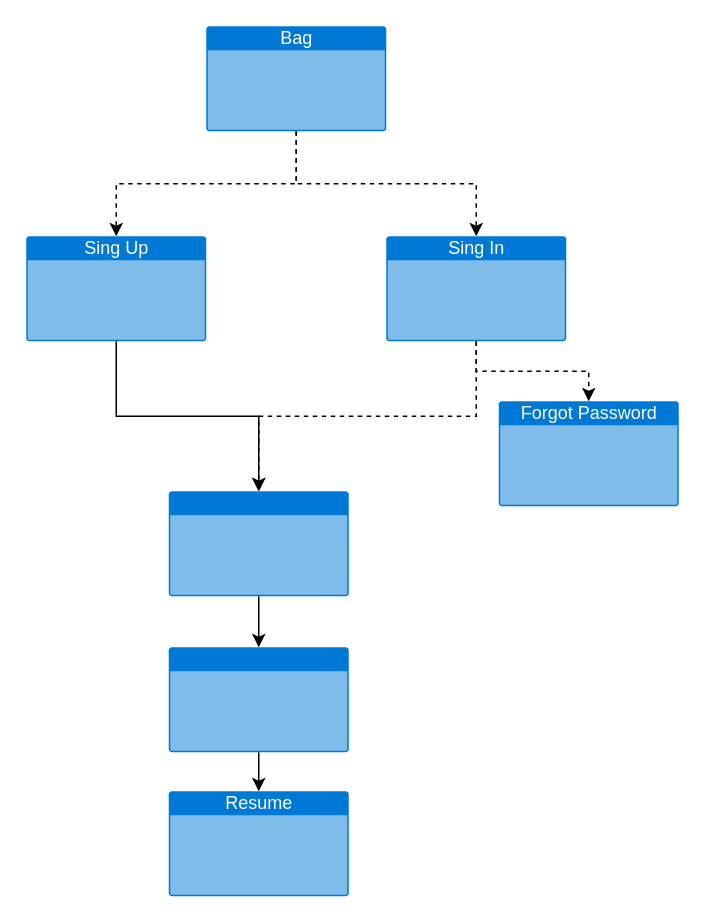
The diagram is 704 pixels wide and 921 high, and some of its shapes have lost their labels. The centre of each missing label's shape, as x and y in pixels:
"Address" belongs at (258,543).
"Payment" belongs at (258,699).
